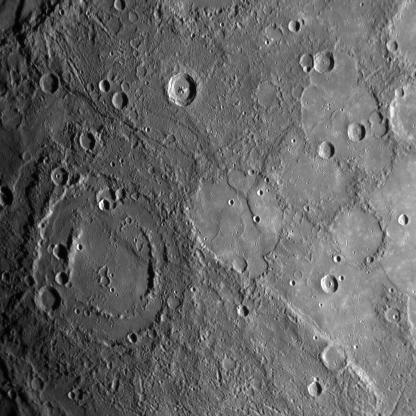craters: (26, 160, 190, 362), (179, 166, 293, 276), (158, 67, 207, 116), (312, 332, 358, 379), (291, 363, 334, 407), (92, 180, 143, 214), (302, 131, 344, 170), (289, 49, 342, 79), (336, 110, 375, 150), (43, 163, 89, 192), (315, 270, 347, 301), (102, 87, 133, 116), (62, 376, 94, 404), (33, 67, 60, 100), (0, 107, 30, 136), (286, 17, 318, 44), (226, 302, 253, 334), (84, 0, 134, 17), (23, 375, 58, 398), (386, 206, 414, 233), (80, 124, 102, 155), (48, 244, 75, 265), (224, 254, 252, 274), (324, 243, 344, 268), (94, 71, 116, 92), (250, 182, 269, 202), (248, 211, 269, 227), (118, 80, 137, 97), (224, 195, 241, 212), (128, 12, 145, 28), (286, 278, 297, 296)
